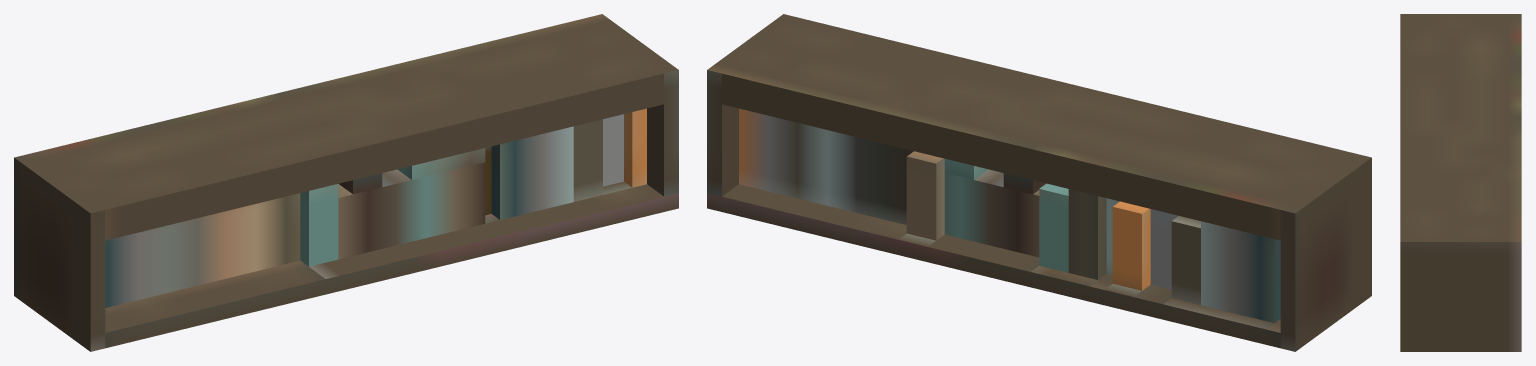
File: BookshelfWideBrown_A_01.obj
3 renders of one model, left to right at view 1: azimuth 30°, elevation 25°; view 2: azimuth 150°, elevation 25°; view 3: azimuth 270°, elevation 25°, orthographic. The views are drawn at different scales.
Visible parts, largest first — view 1: BookshelfWideBrown_A_01; view 2: BookshelfWideBrown_A_01; view 3: BookshelfWideBrown_A_01.
Part boxes in pixels (<box>): BookshelfWideBrown_A_01: <box>14,14,678,351</box>; BookshelfWideBrown_A_01: <box>707,14,1371,351</box>; BookshelfWideBrown_A_01: <box>1400,14,1521,351</box>.
Bounding box in the file's own units: 2 × 0.45 × 0.45.
